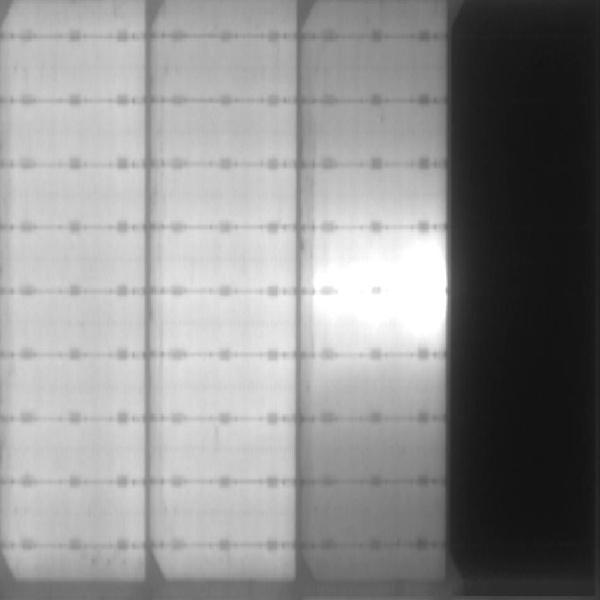hot_spot: (327, 244, 439, 288), (332, 294, 400, 327), (404, 294, 442, 333)
no_electricity: (450, 4, 600, 600)
